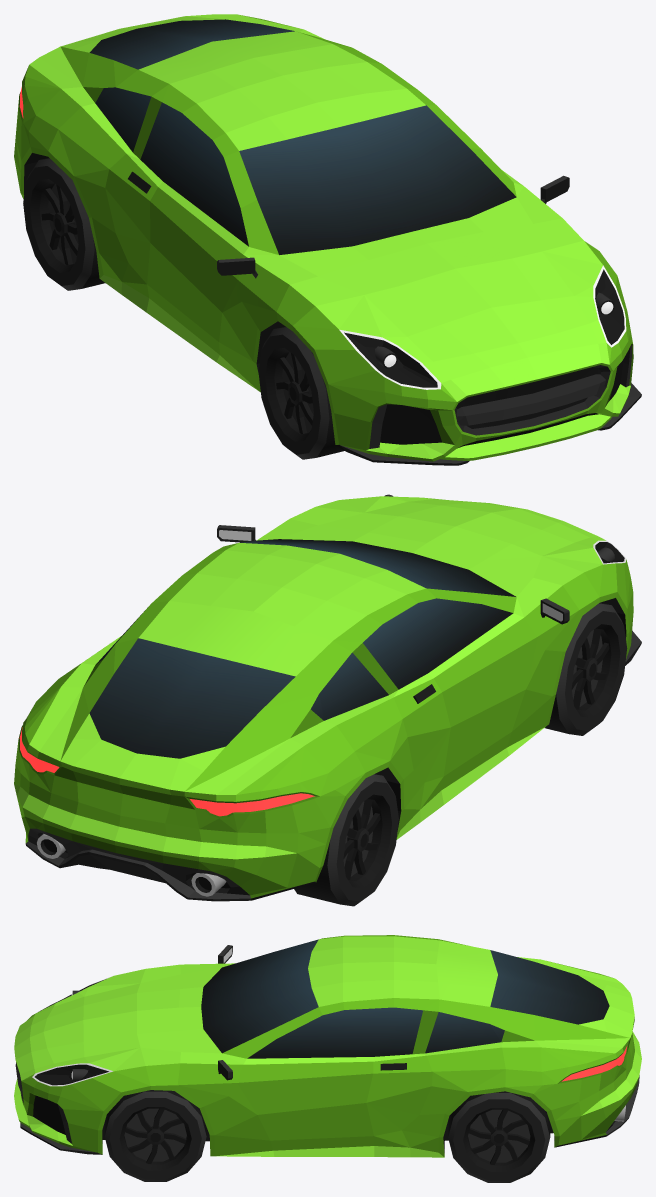
The model's file is jaguar_f_type.glb.
3 renders of one model, top to bottom at view 1: azimuth 30°, elevation 25°; view 2: azimuth 150°, elevation 25°; view 3: azimuth 270°, elevation 25°, orthographic. The views are drawn at different scales.
Visible parts, largest first — view 1: Body, FRW_mesh, RRW_mesh; view 2: Body, RRW_mesh, FRW_mesh; view 3: Body, RLW_mesh, FLW_mesh.
Boxes of the visible parts, x1,y1,x2,y2 form: Body: (14,14,641,465); FRW_mesh: (258,326,344,459); RRW_mesh: (23,157,105,290); Body: (14,494,641,901); RRW_mesh: (294,773,398,906); FRW_mesh: (544,602,627,735); Body: (14,935,641,1157); RLW_mesh: (448,1091,550,1182); FLW_mesh: (104,1090,206,1181).
Bounding box in the file's own units: 202 × 123 × 421.
Materials: 8 (2 with a texture image).
